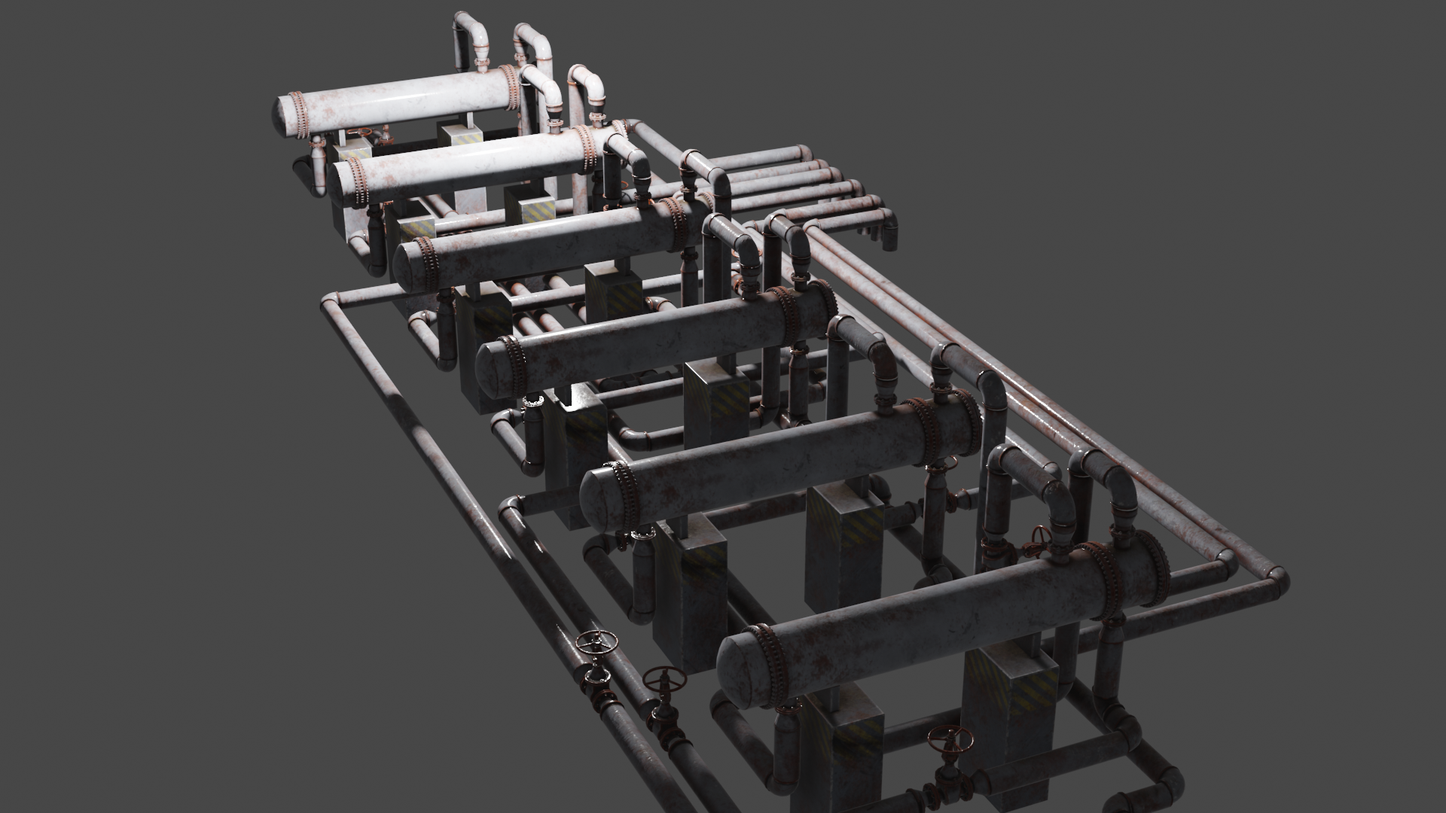HE_1: (715, 524, 1174, 716)
HE_2: (577, 384, 987, 536)
HE_3: (469, 272, 833, 403)
HE_4: (394, 192, 711, 300)
HE_5: (321, 118, 627, 213)
HE_6: (271, 61, 521, 137)
